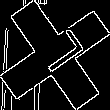L_SW: (25, 28, 85, 82)
